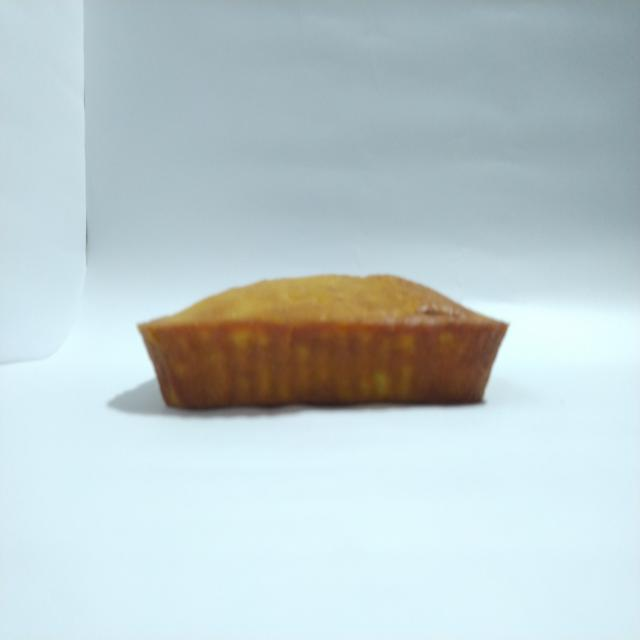Food: (123, 260, 520, 422)
